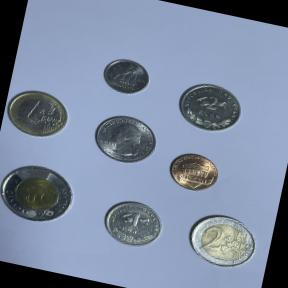coin: (0, 154, 83, 233), (178, 203, 265, 278), (85, 106, 165, 172), (170, 73, 248, 140), (0, 81, 77, 147), (161, 144, 224, 197), (94, 51, 156, 102)
